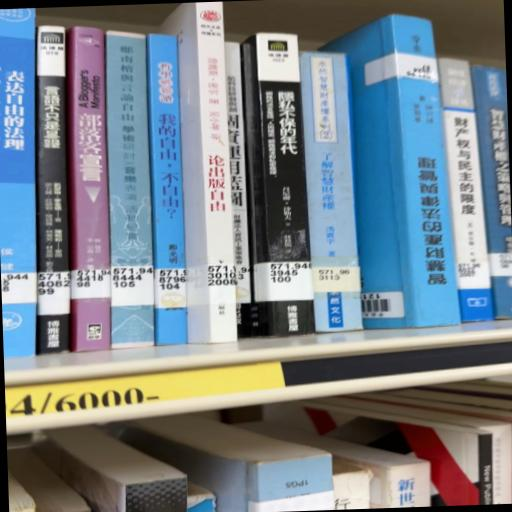reverse: (321, 15, 461, 329)
